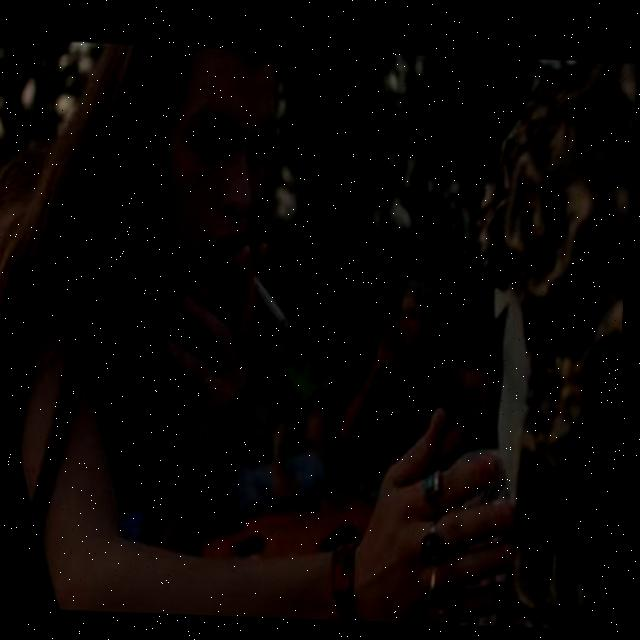cigarette: (254, 264, 297, 329)
